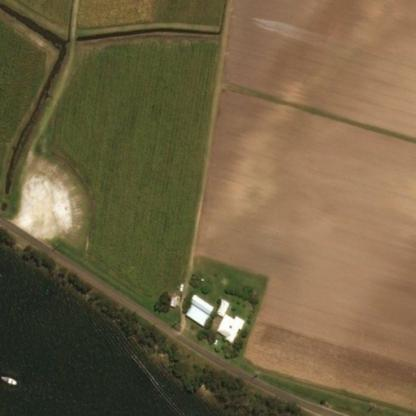ship: (0, 363, 20, 391)
